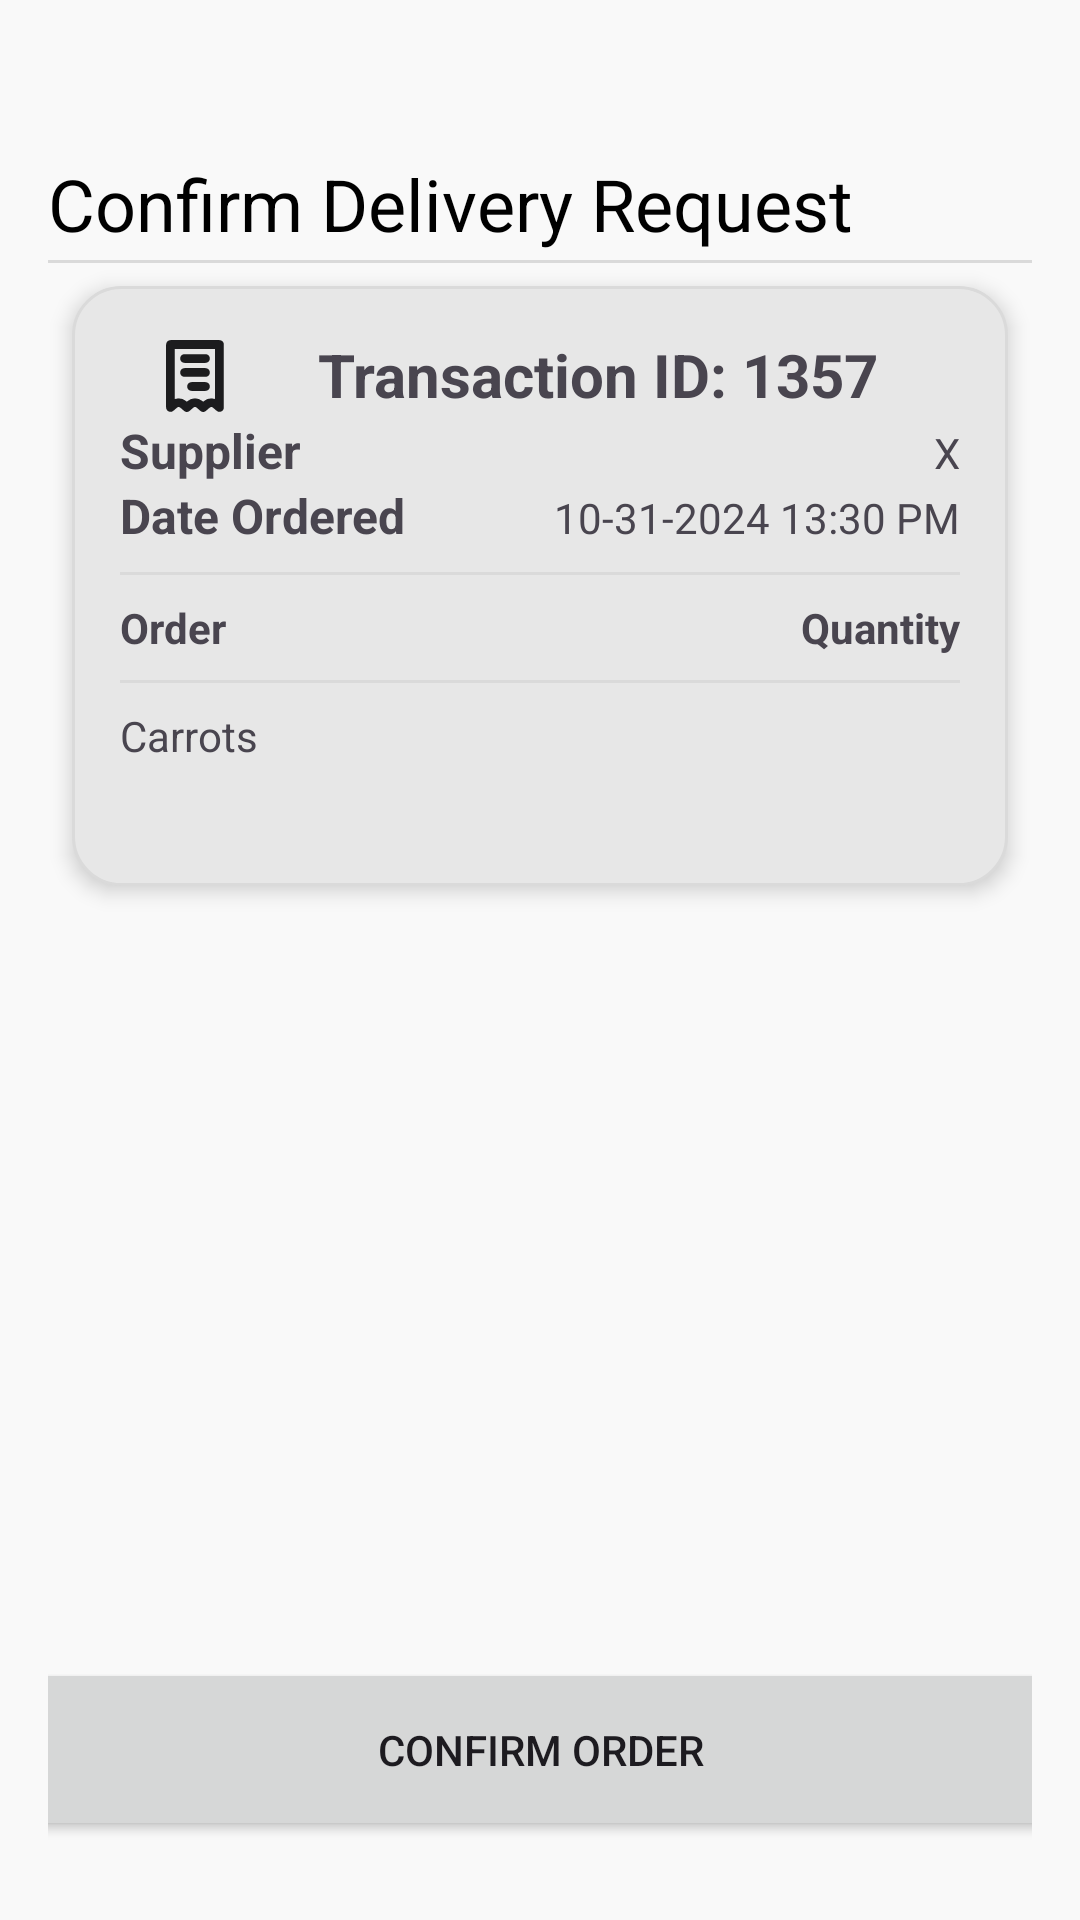

Icons on this 1080 × 1920 Android screen, each with the point to tap as point (x, y):
invoice: point (195, 376)
